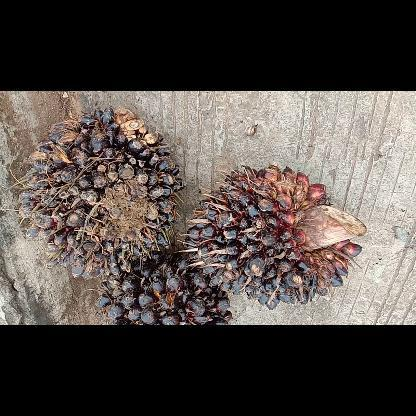TBS mentah: (17, 105, 186, 281), (182, 163, 368, 313), (92, 248, 236, 324)
